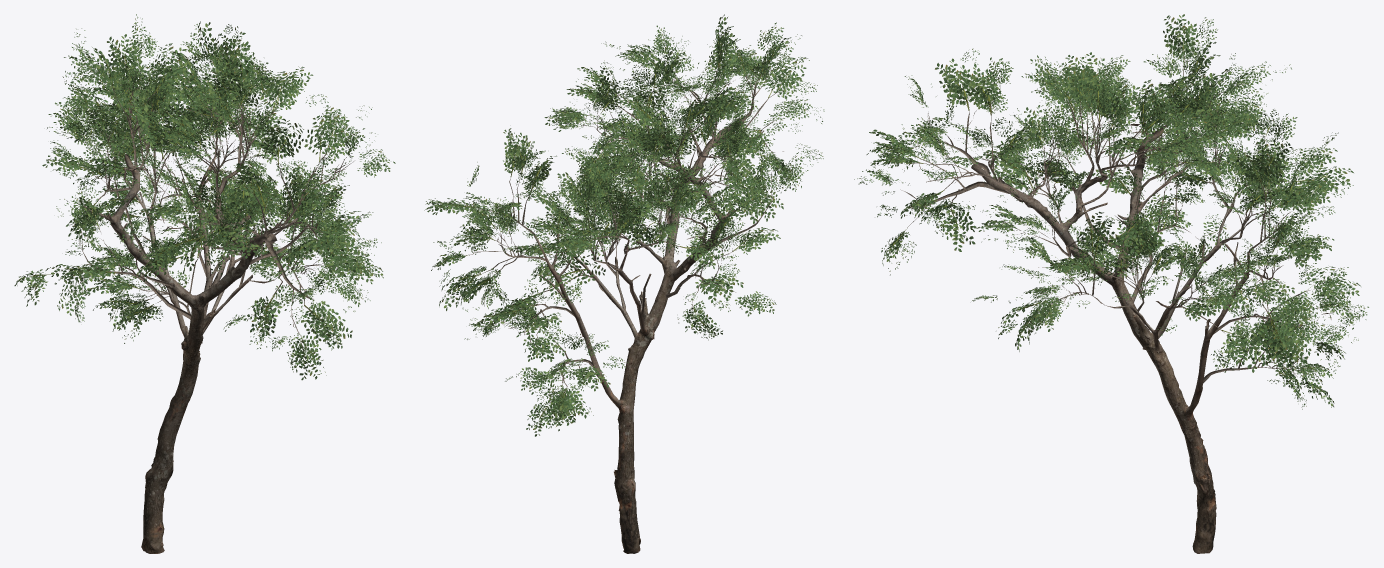
File: tree-urban.glb
3 views of the same model, side by side, from view 1: azimuth 30°, elevation 25°; view 2: azimuth 150°, elevation 25°; view 3: azimuth 270°, elevation 25° (orthographic). The views are drawn at different scales.
Parts seen in each view (by area): view 1: Tree_Urban; view 2: Tree_Urban; view 3: Tree_Urban.
Boxes of the visible parts, box(x1,y1,x2,y2) form: Tree_Urban: box(14, 14, 395, 553); Tree_Urban: box(424, 14, 824, 553); Tree_Urban: box(854, 14, 1368, 553).
Bounding box in the file's own units: 2.92 × 4.56 × 4.27.
3 materials, 3 textured.
